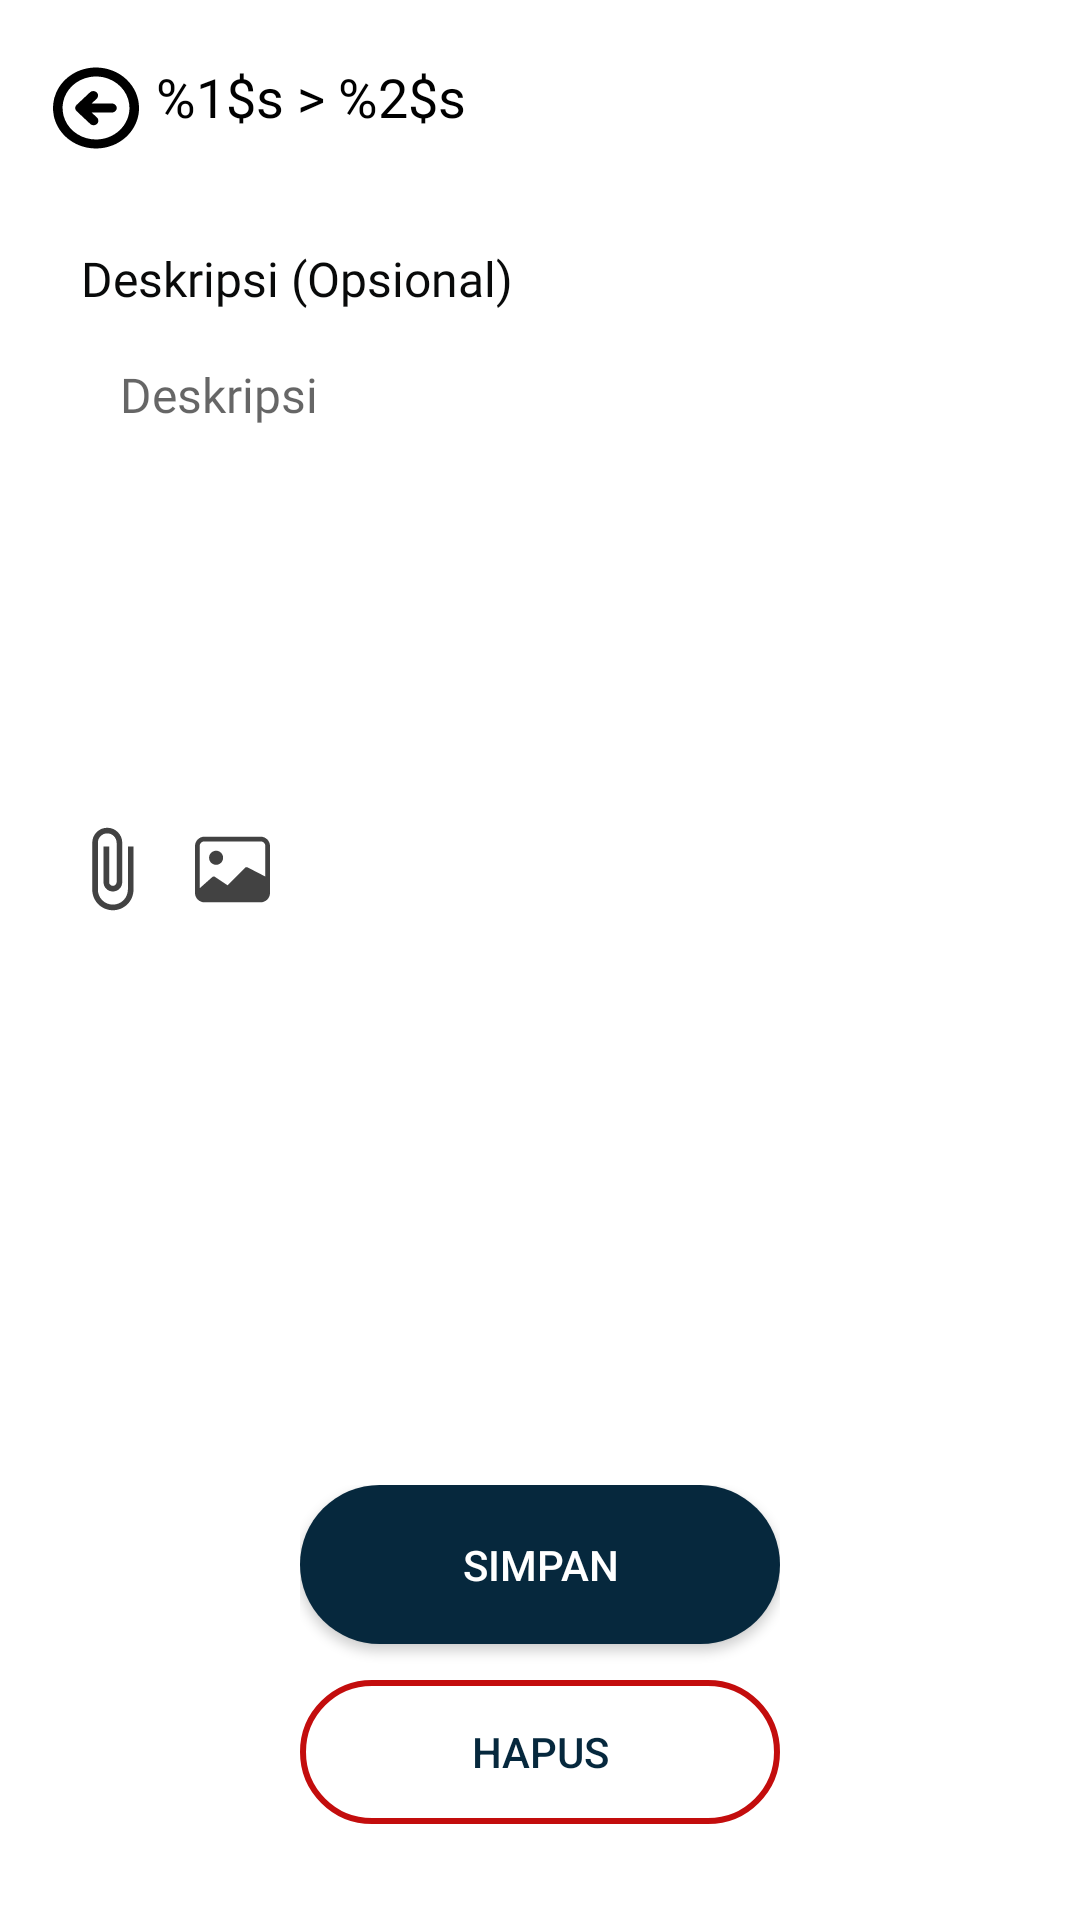

Named icons in this screenshot (1080x1920) and their centers, point (x, y):
Attach Files: point (113, 869)
Attach Images: point (232, 869)
Tombol Back Materi Dosen: point (96, 108)
